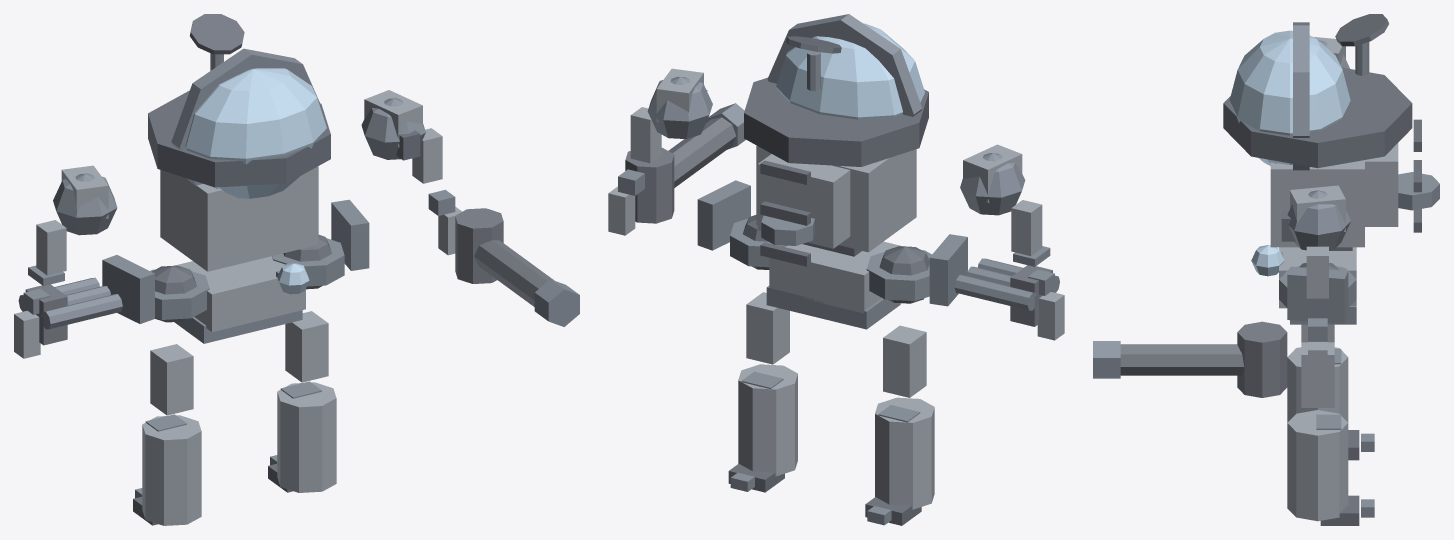
File: lowpoly_mech.glb
3 views of the same model, side by side, from view 1: azimuth 30°, elevation 25°; view 2: azimuth 150°, elevation 25°; view 3: azimuth 270°, elevation 25° (orthographic).
Visible parts, largest first — view 1: torso_core, cockpit, collar, shin_L, shin_R, pelvis, cockpit_frame, thigh_L, thigh_R, weapon_r, side_skirt_L, cannon_barrel (+19 smaller); view 2: collar, cockpit, shin_R, shin_L, torso_core, pelvis, backpack, cockpit_frame, thigh_L, side_skirt_R, weapon_r, thigh_R (+27 smaller); view 3: collar, cockpit, shin_R, torso_core, cannon_barrel, weapon_r, side_skirt_R, backpack, shoulder_joint_R, cockpit_frame, shin_L, thigh_R (+13 smaller).
Part boxes in pixels (<box>): torso_core: <box>160,166,318,271</box>; cockpit: <box>185,68,326,198</box>; collar: <box>148,90,330,187</box>; shin_L: <box>142,415,201,525</box>; shin_R: <box>277,382,336,492</box>; pelvis: <box>175,256,305,332</box>; cockpit_frame: <box>171,48,324,186</box>; thigh_L: <box>150,344,193,415</box>; thigh_R: <box>285,311,328,382</box>; weapon_r: <box>455,208,503,283</box>; side_skirt_L: <box>102,255,154,323</box>; cannon_barrel: <box>474,240,554,306</box>; collar: <box>744,77,928,166</box>; cockpit: <box>776,23,924,119</box>; shin_R: <box>738,364,797,476</box>; shin_L: <box>875,397,934,509</box>; torso_core: <box>756,145,916,252</box>; pelvis: <box>769,241,902,313</box>; backpack: <box>757,154,850,248</box>; cockpit_frame: <box>767,14,922,116</box>; thigh_L: <box>883,325,926,397</box>; side_skirt_R: <box>697,180,750,250</box>; weapon_r: <box>625,148,674,223</box>; thigh_R: <box>746,292,789,364</box>; collar: <box>1223,67,1412,168</box>; cockpit: <box>1229,30,1350,165</box>; shin_R: <box>1287,410,1348,521</box>; torso_core: <box>1270,160,1364,247</box>; cannon_barrel: <box>1120,344,1244,375</box>; weapon_r: <box>1237,321,1287,397</box>; side_skirt_R: <box>1287,266,1348,324</box>; backpack: <box>1365,143,1398,226</box>; shoulder_joint_R: <box>1287,190,1350,250</box>; cockpit_frame: <box>1293,22,1309,170</box>; shin_L: <box>1287,347,1348,422</box>; thigh_R: <box>1301,342,1334,407</box>.
Size of the model in its own units: 1.89 by 1.85 by 1.25.
